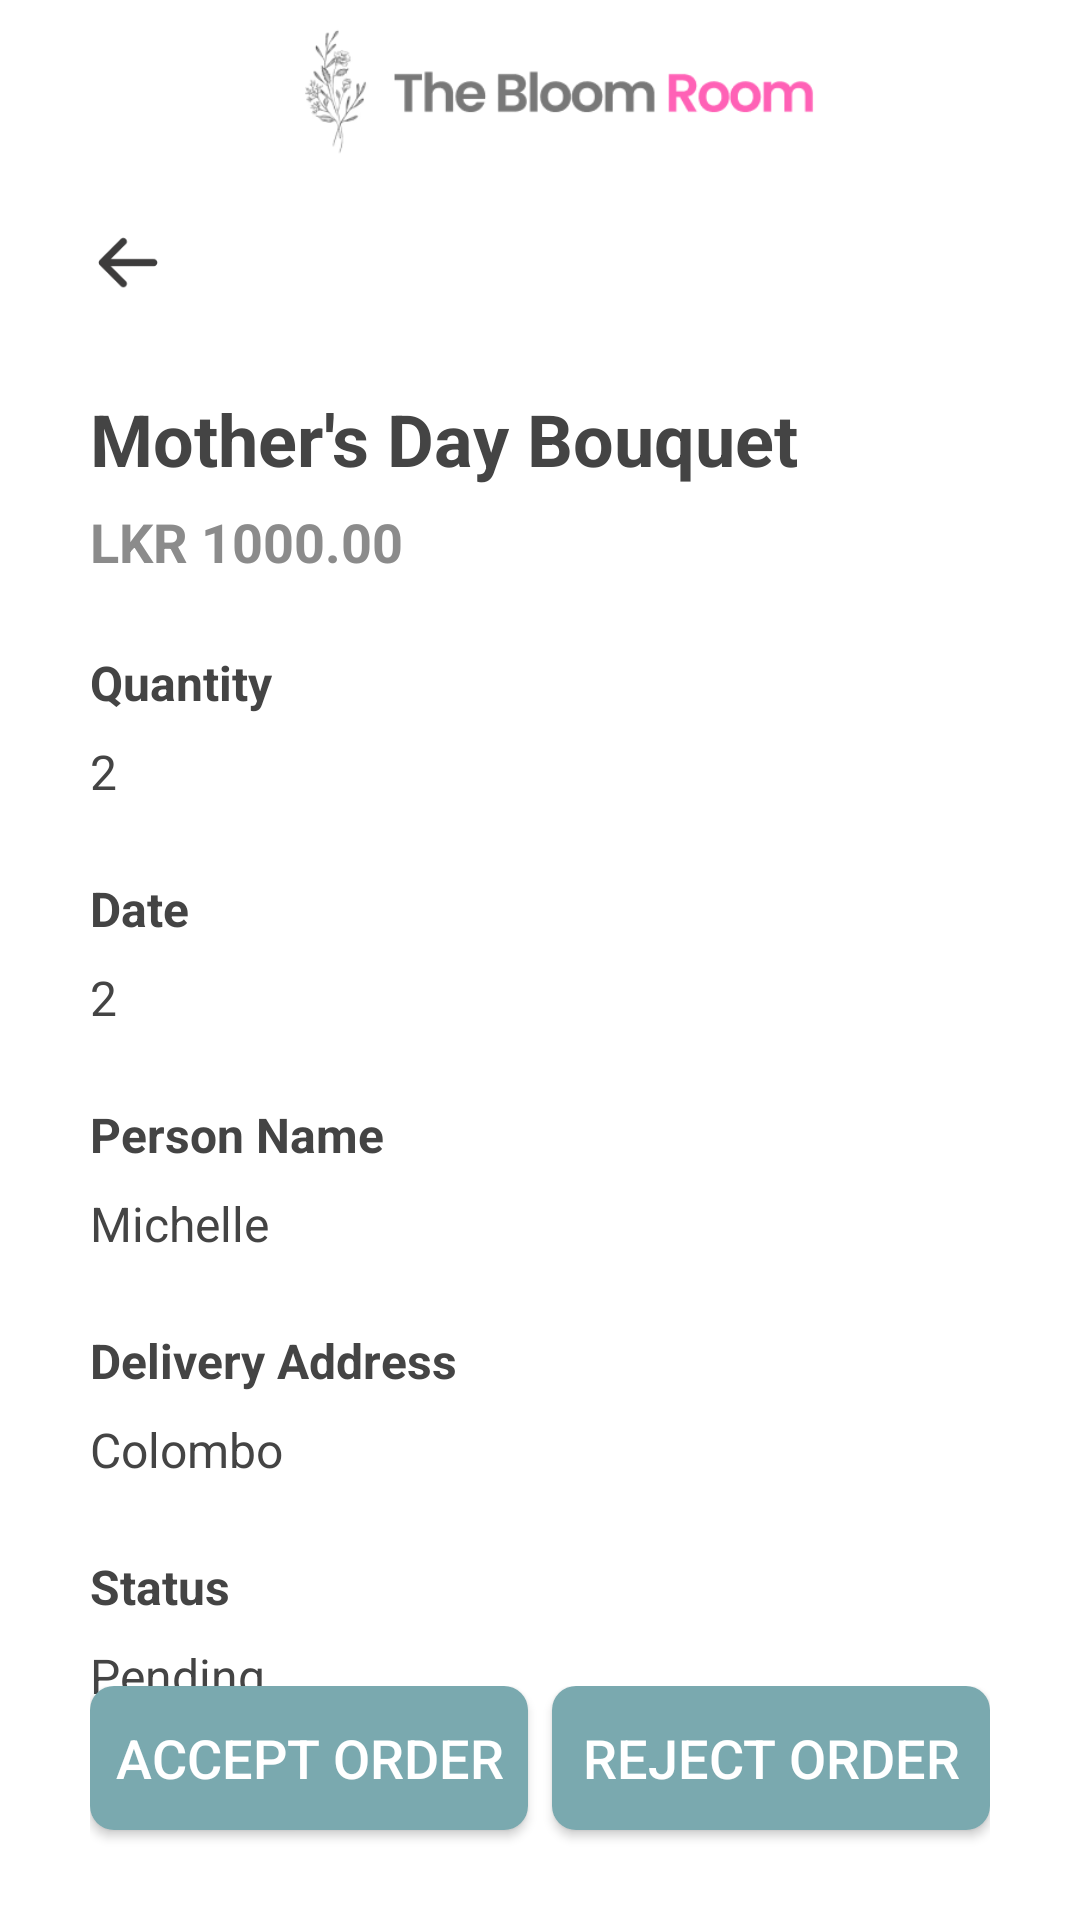

Screen size 1080w x 1920h. Icon name, then its center in pixels as point (x, y):
back: point (128, 262)
